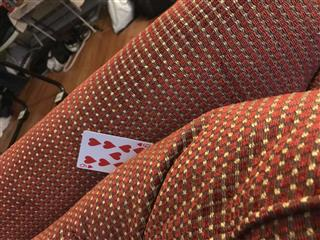NineOfHearts: (75, 129, 153, 172)
